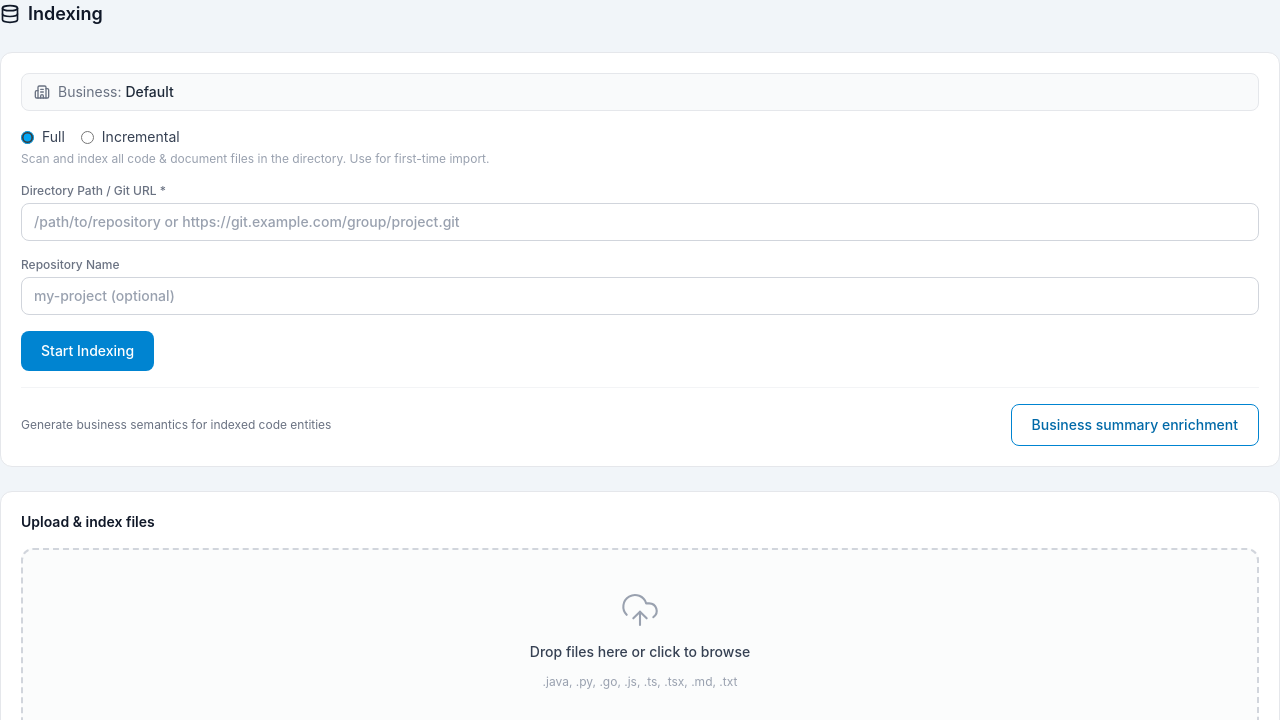
Test: Indexing › submits enrich modal with selected repository
Step 1. Click the button "Business summary enrichment" → click(1135, 425), box [1011,404,1259,446]
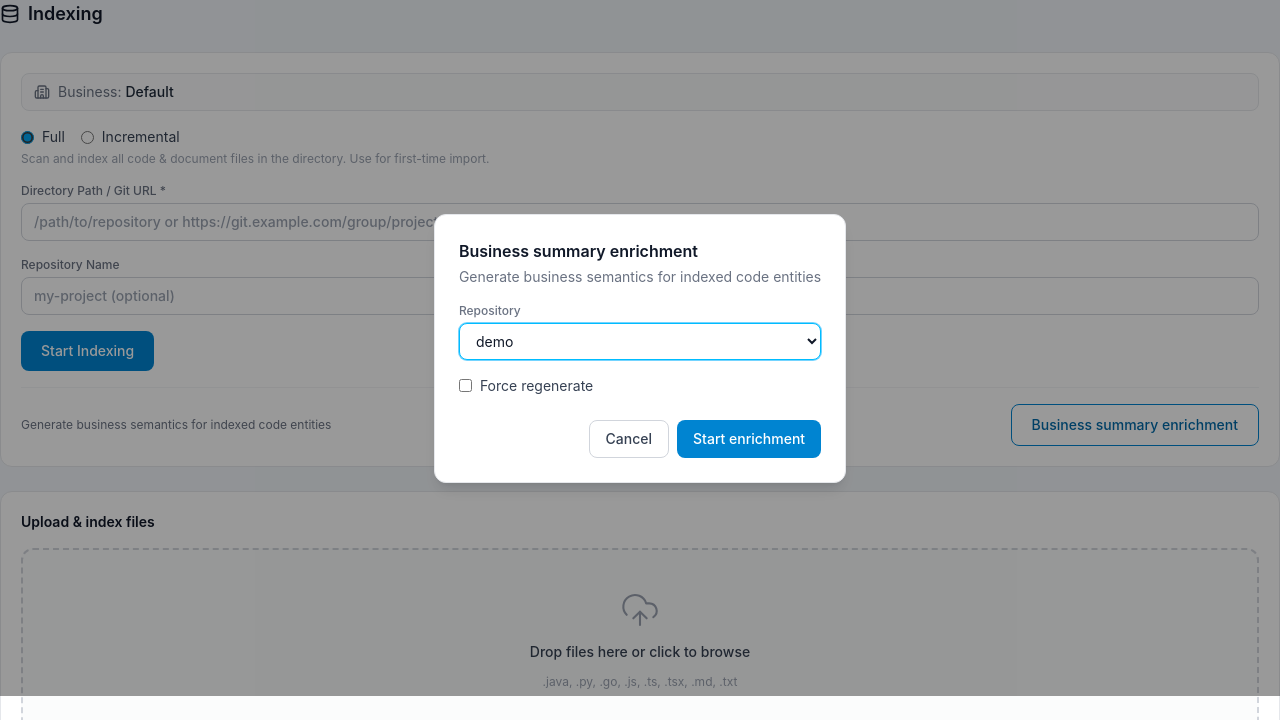
Step 2. Select "demo" in the dropdown → (640, 341), box [459,322,821,360]
Step 3. Click the button "Start enrichment" → click(749, 438), box [677,420,821,458]
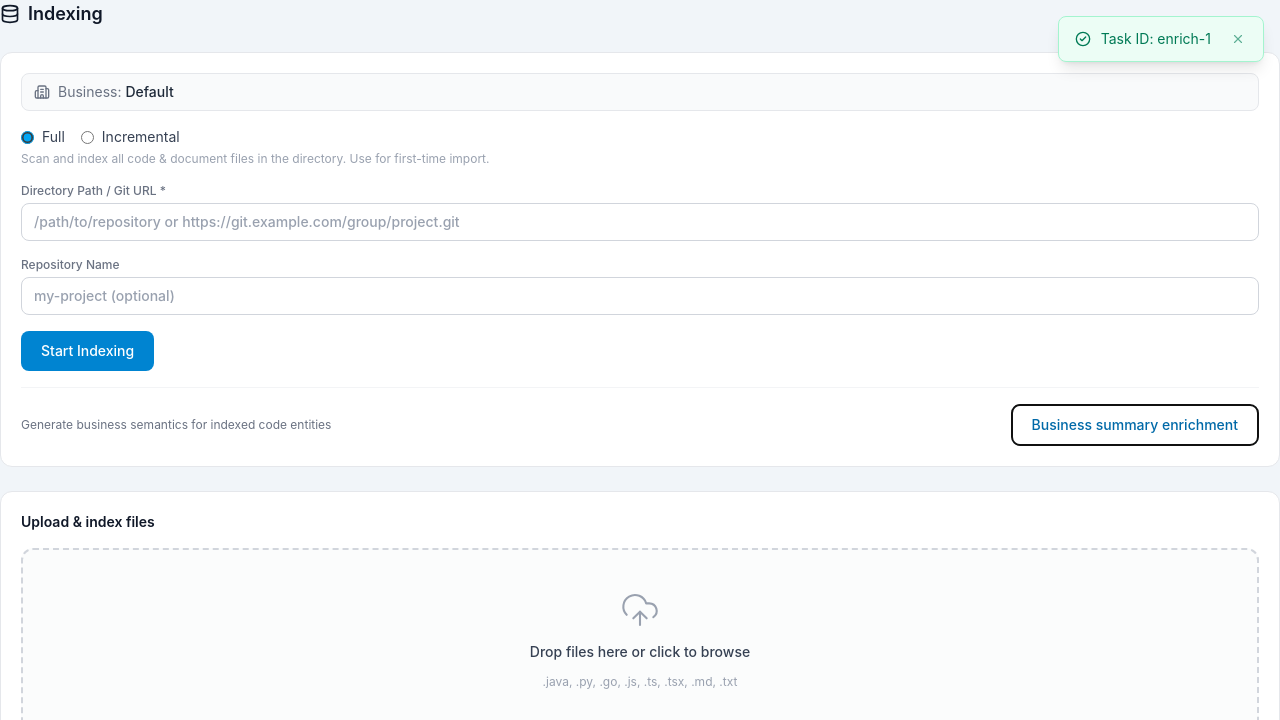
expect the dialog is gone: met
